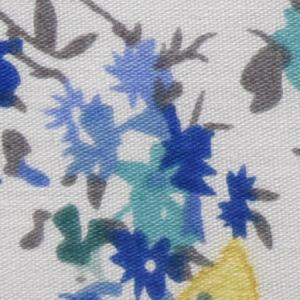Oil Stain: (169, 233, 264, 300)
